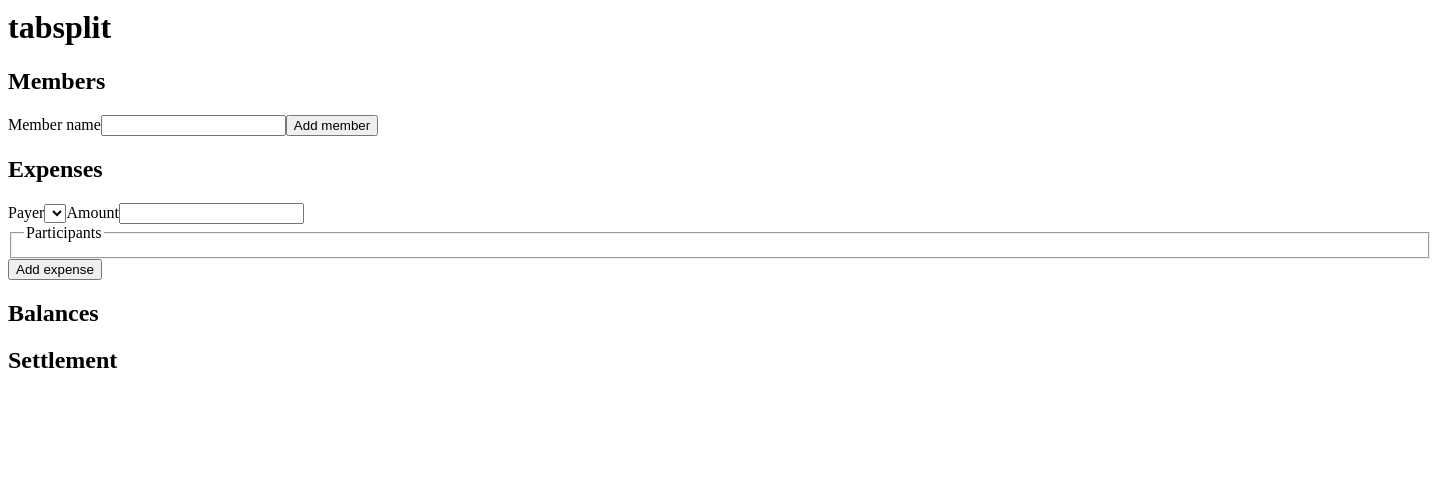
App › deletes an unreferenced member
The width and height of the screenshot is (1440, 480).
Type "Ann" into the field labelled "Member name" at (193, 125), box left=101, top=115, right=286, bottom=136
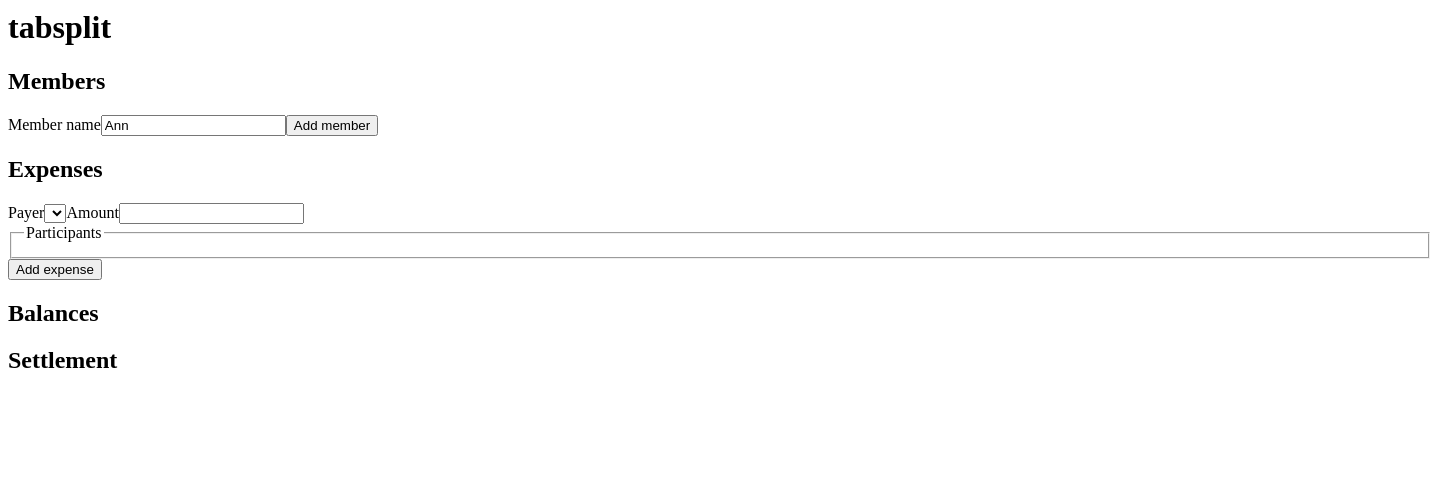
Click the button "Add member" at (332, 125), box left=286, top=115, right=378, bottom=136
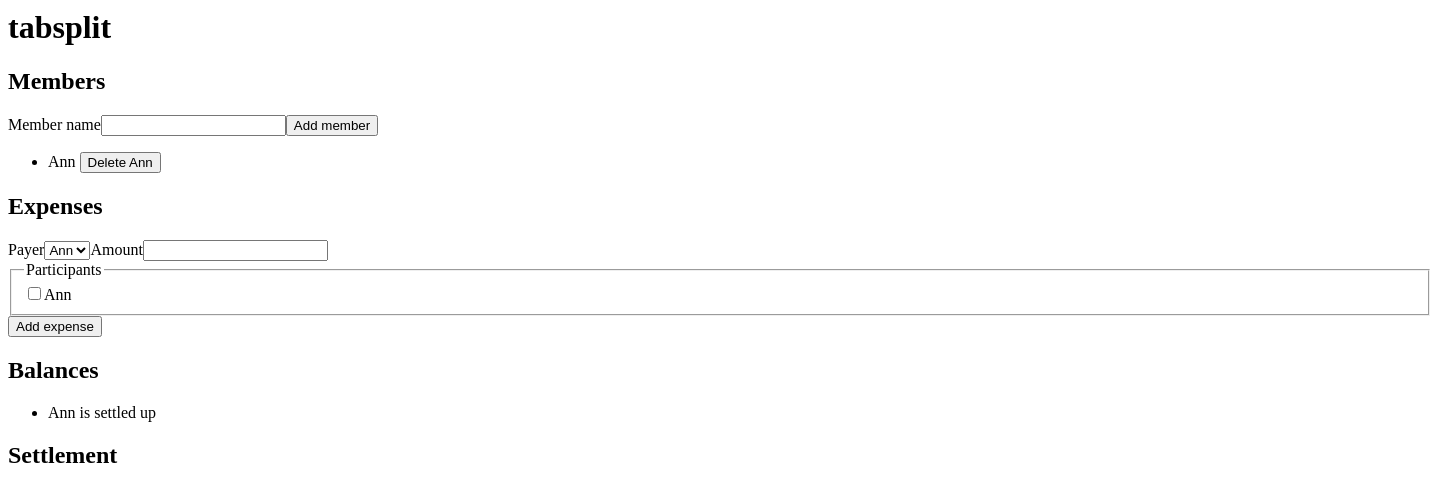
Click the button "Delete Ann" at (120, 162), box left=80, top=152, right=161, bottom=173
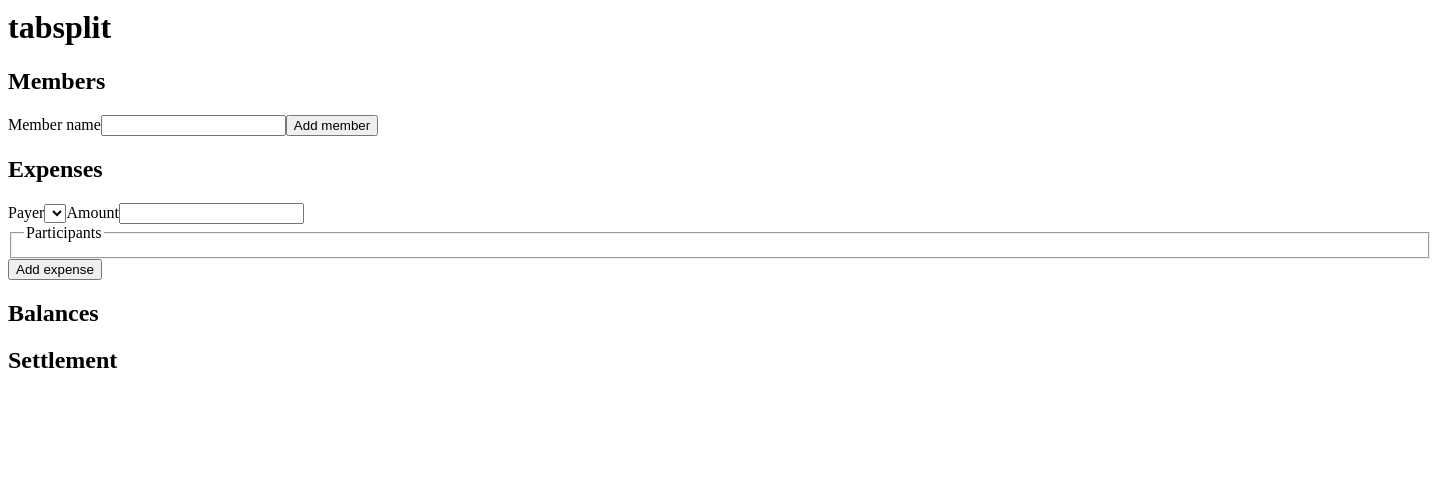
Result: the button "Delete Ann" is gone
